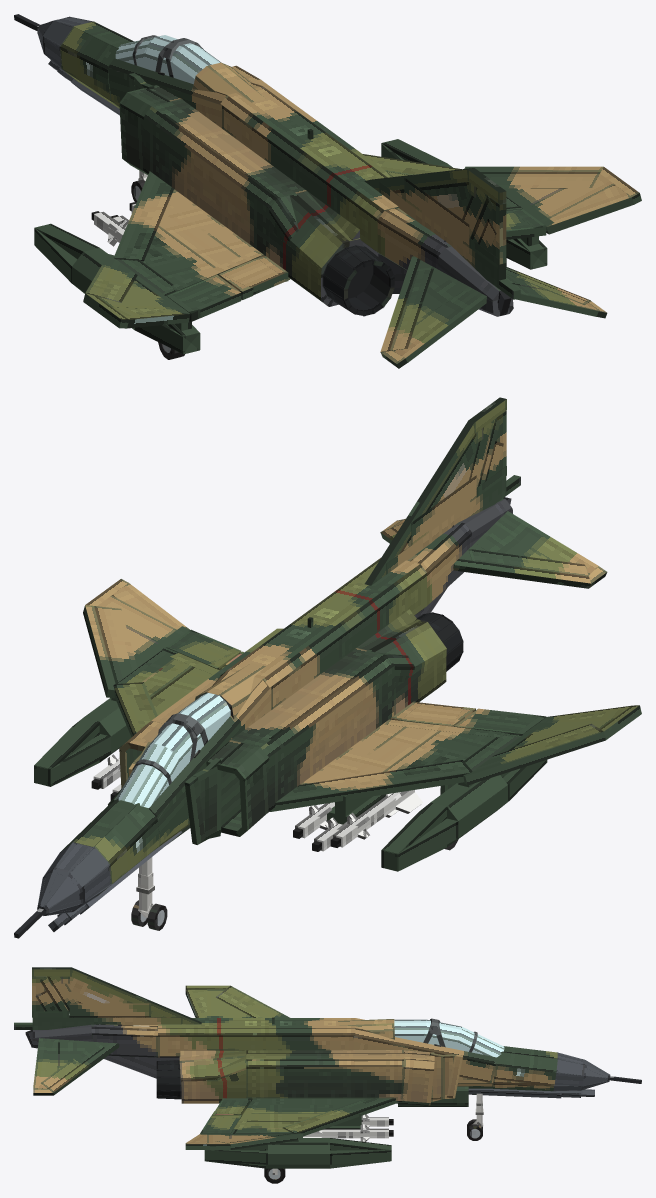
3 views of the same model, one above another, from view 1: azimuth 30°, elevation 25°; view 2: azimuth 150°, elevation 25°; view 3: azimuth 270°, elevation 25° (orthographic). The views are drawn at different scales.
Visible parts, largest first — view 1: LWing (×21), bone2 (×20), RWing (×6), LPlane (×5), bone (×3), LFlap, bone6 (×2), LFlap2, RPlane, VPlane, RFlap; view 2: LWing (×17), bone2 (×13), RWing (×8), LPlane (×4), bone (×4), bone6 (×2), bone9, LFlap, RFlap, LFlap2; view 3: bone2 (×22), RWing (×16), bone6 (×5), RPlane (×4), LWing (×4), VPlane (×2), bone10, RFlap, RFlap2, bone5.
Boxes of the visible parts, x1,y1,x2,y2 form: LWing (×21): (83, 99, 364, 328); bone2 (×20): (59, 21, 506, 300); RWing (×6): (250, 79, 633, 234); LPlane (×5): (380, 256, 486, 362); bone (×3): (34, 223, 190, 353); LFlap: (167, 278, 241, 317); bone6 (×2): (382, 139, 537, 269); LFlap2: (219, 258, 290, 294); RPlane: (513, 284, 598, 316); VPlane: (488, 196, 506, 264); RFlap: (506, 209, 534, 239); LWing (×17): (184, 622, 605, 844); bone2 (×13): (73, 421, 506, 884); RWing (×8): (83, 583, 281, 737); LPlane (×4): (453, 511, 598, 588); bone (×4): (382, 775, 509, 871); bone6 (×2): (34, 717, 110, 786); bone9: (333, 790, 414, 847); LFlap: (466, 708, 533, 734); RFlap: (167, 633, 240, 664); LFlap2: (400, 702, 463, 726); bone2 (×22): (32, 967, 584, 1098); RWing (×16): (179, 1050, 462, 1149); bone6 (×5): (204, 1138, 391, 1164); RPlane (×4): (33, 1041, 119, 1095); LWing (×4): (185, 985, 289, 1017); VPlane (×2): (32, 976, 69, 1013); bone10: (303, 1129, 388, 1138); RFlap: (202, 1115, 239, 1133); RFlap2: (215, 1100, 250, 1115); bone5: (398, 1091, 468, 1104).
Size of the model in its own units: 12.05 by 6.02 by 20.
Materials: 1 (1 with a texture image).
